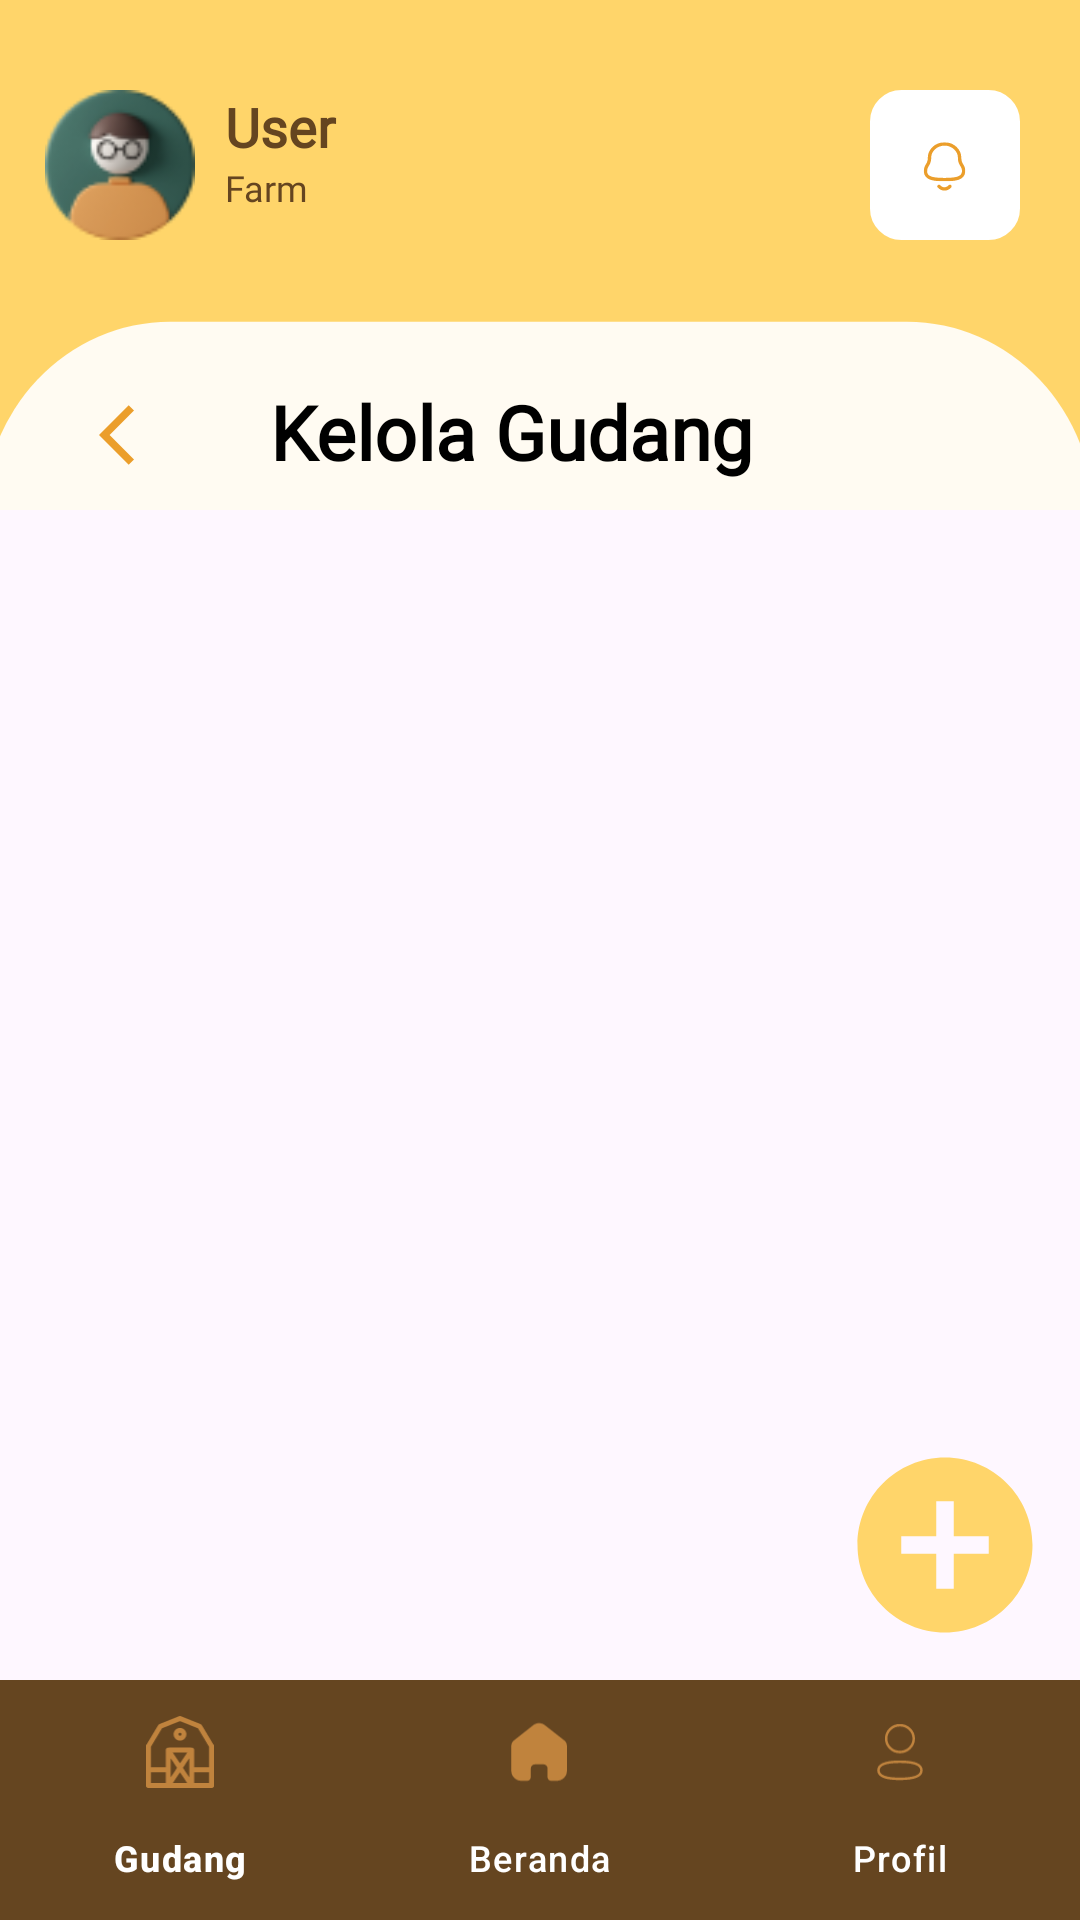

Icons on this 1080×1920 Android screen, each with its box as (x1, y1, x2, y2):
add data: (857, 1457, 1033, 1633)
bell: (870, 90, 1020, 240)
profile pic: (45, 90, 195, 240)
